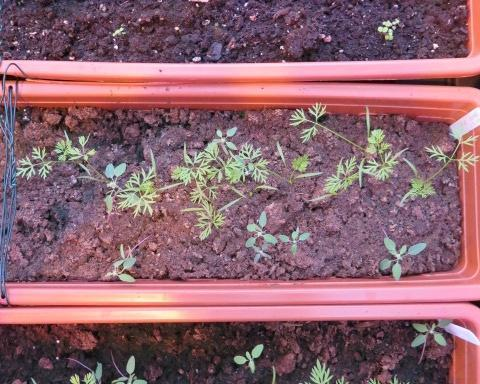weed: (375, 234, 428, 282), (229, 341, 265, 376)
